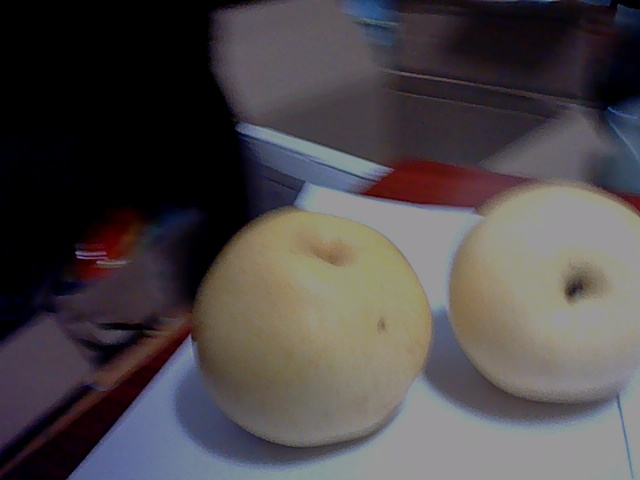pear: (205, 205, 430, 443), (442, 187, 640, 412)
